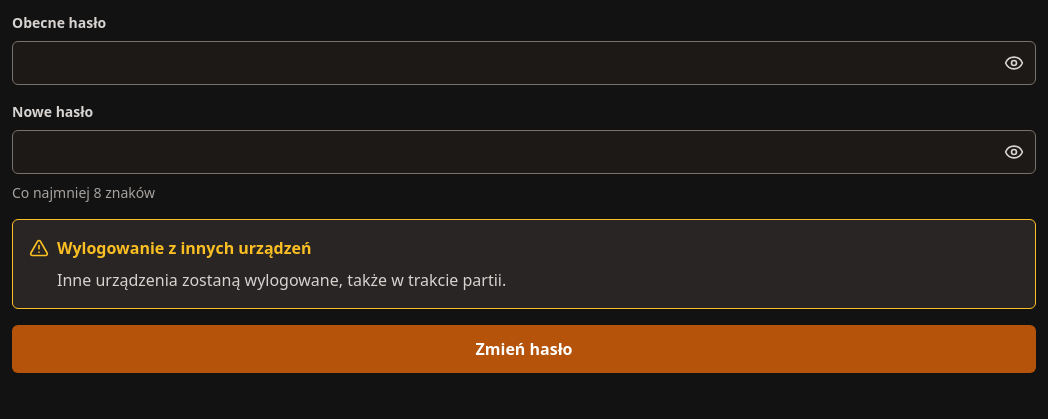
Test case: ChangePasswordForm › focuses the new password when only it is invalid on the client
Type "secret123" into the password field labelled "Obecne hasło". click: (524, 63)
box: top-left (12, 41), bottom-right (1036, 85)
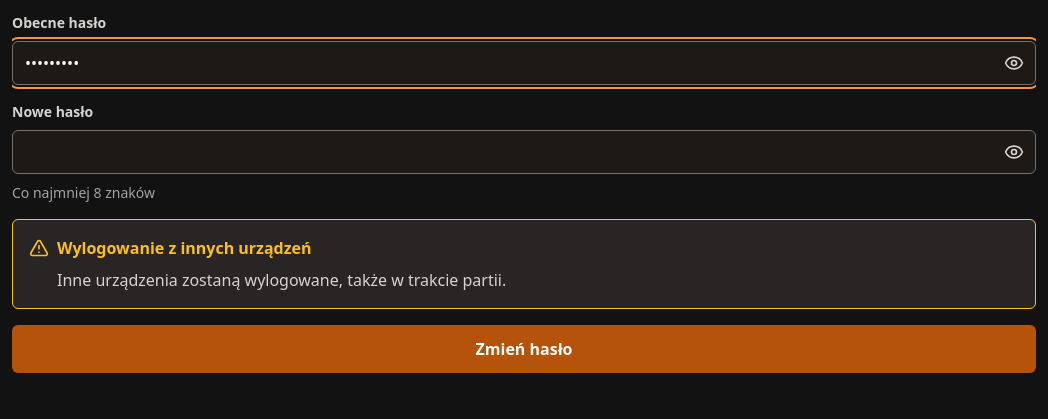
Type "secret123" into the password field labelled "Nowe hasło". click: (524, 152)
box: top-left (12, 130), bottom-right (1036, 174)
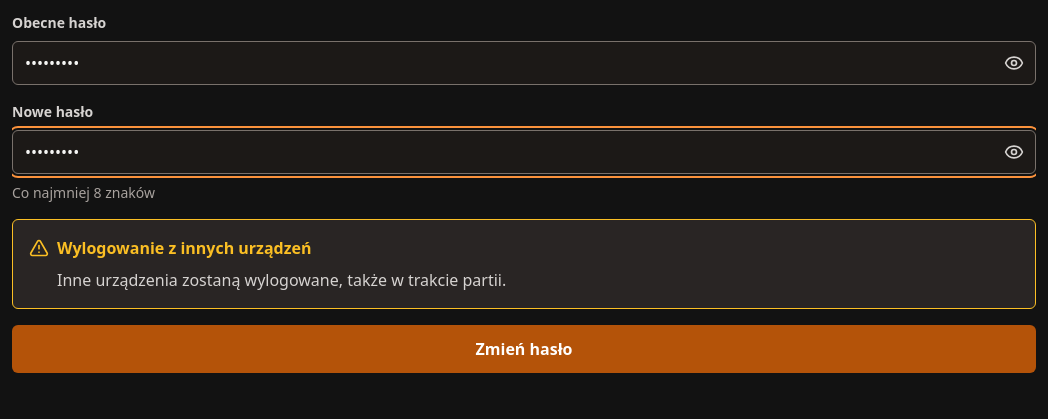
Click the button "Zmień hasło". click: click(524, 349)
box: top-left (12, 325), bottom-right (1036, 373)
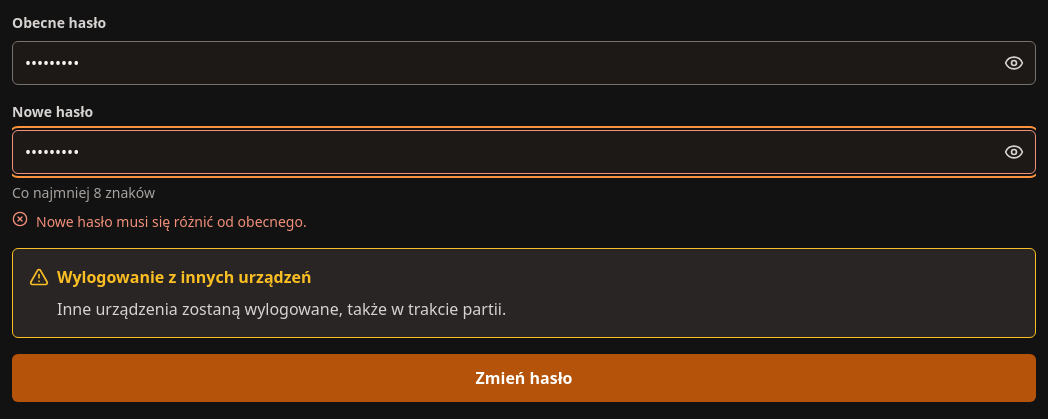
Now the text "Nowe hasło musi się różnić od obecnego." is shown, box top-left (36, 211), bottom-right (307, 232)
